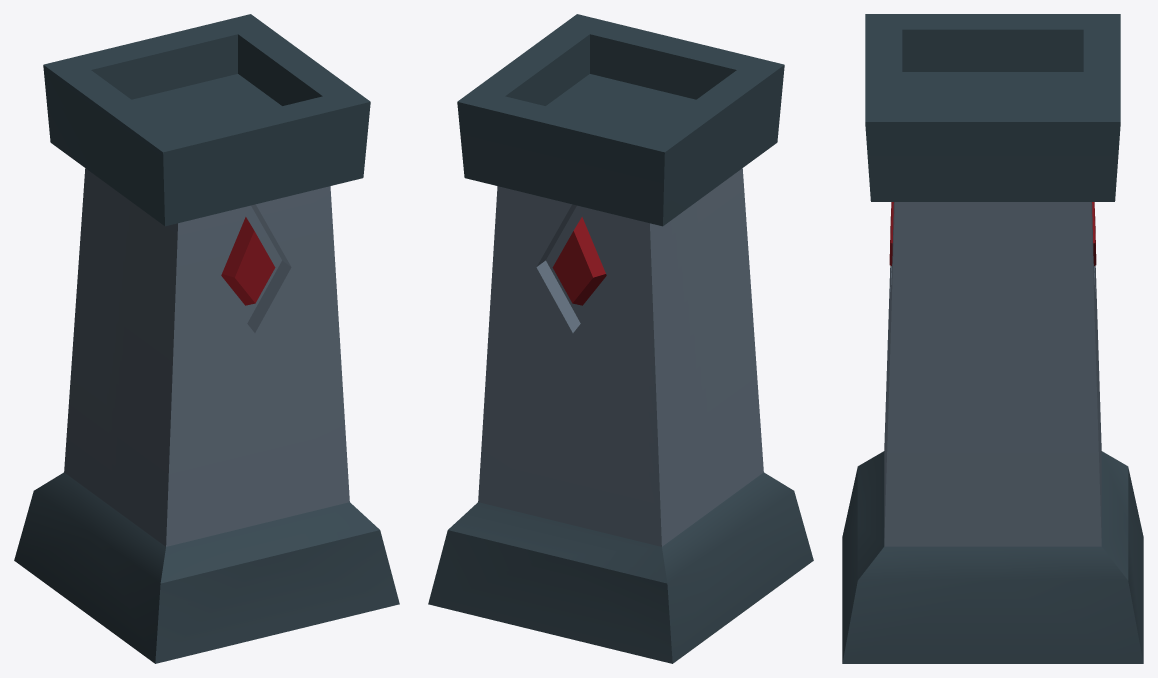
File: Altar_square_A.fbx
3 renders of one model, left to right at view 1: azimuth 30°, elevation 25°; view 2: azimuth 150°, elevation 25°; view 3: azimuth 270°, elevation 25°, orthographic. The views are drawn at different scales.
Visible parts, largest first — view 1: Altar_square_A; view 2: Altar_square_A; view 3: Altar_square_A.
Part boxes in pixels (x1,y1,x2,y2): Altar_square_A: (14, 14, 399, 663); Altar_square_A: (428, 14, 813, 663); Altar_square_A: (842, 14, 1143, 663).
Bounding box in the file's own units: 50.58 × 98.67 × 50.58.
